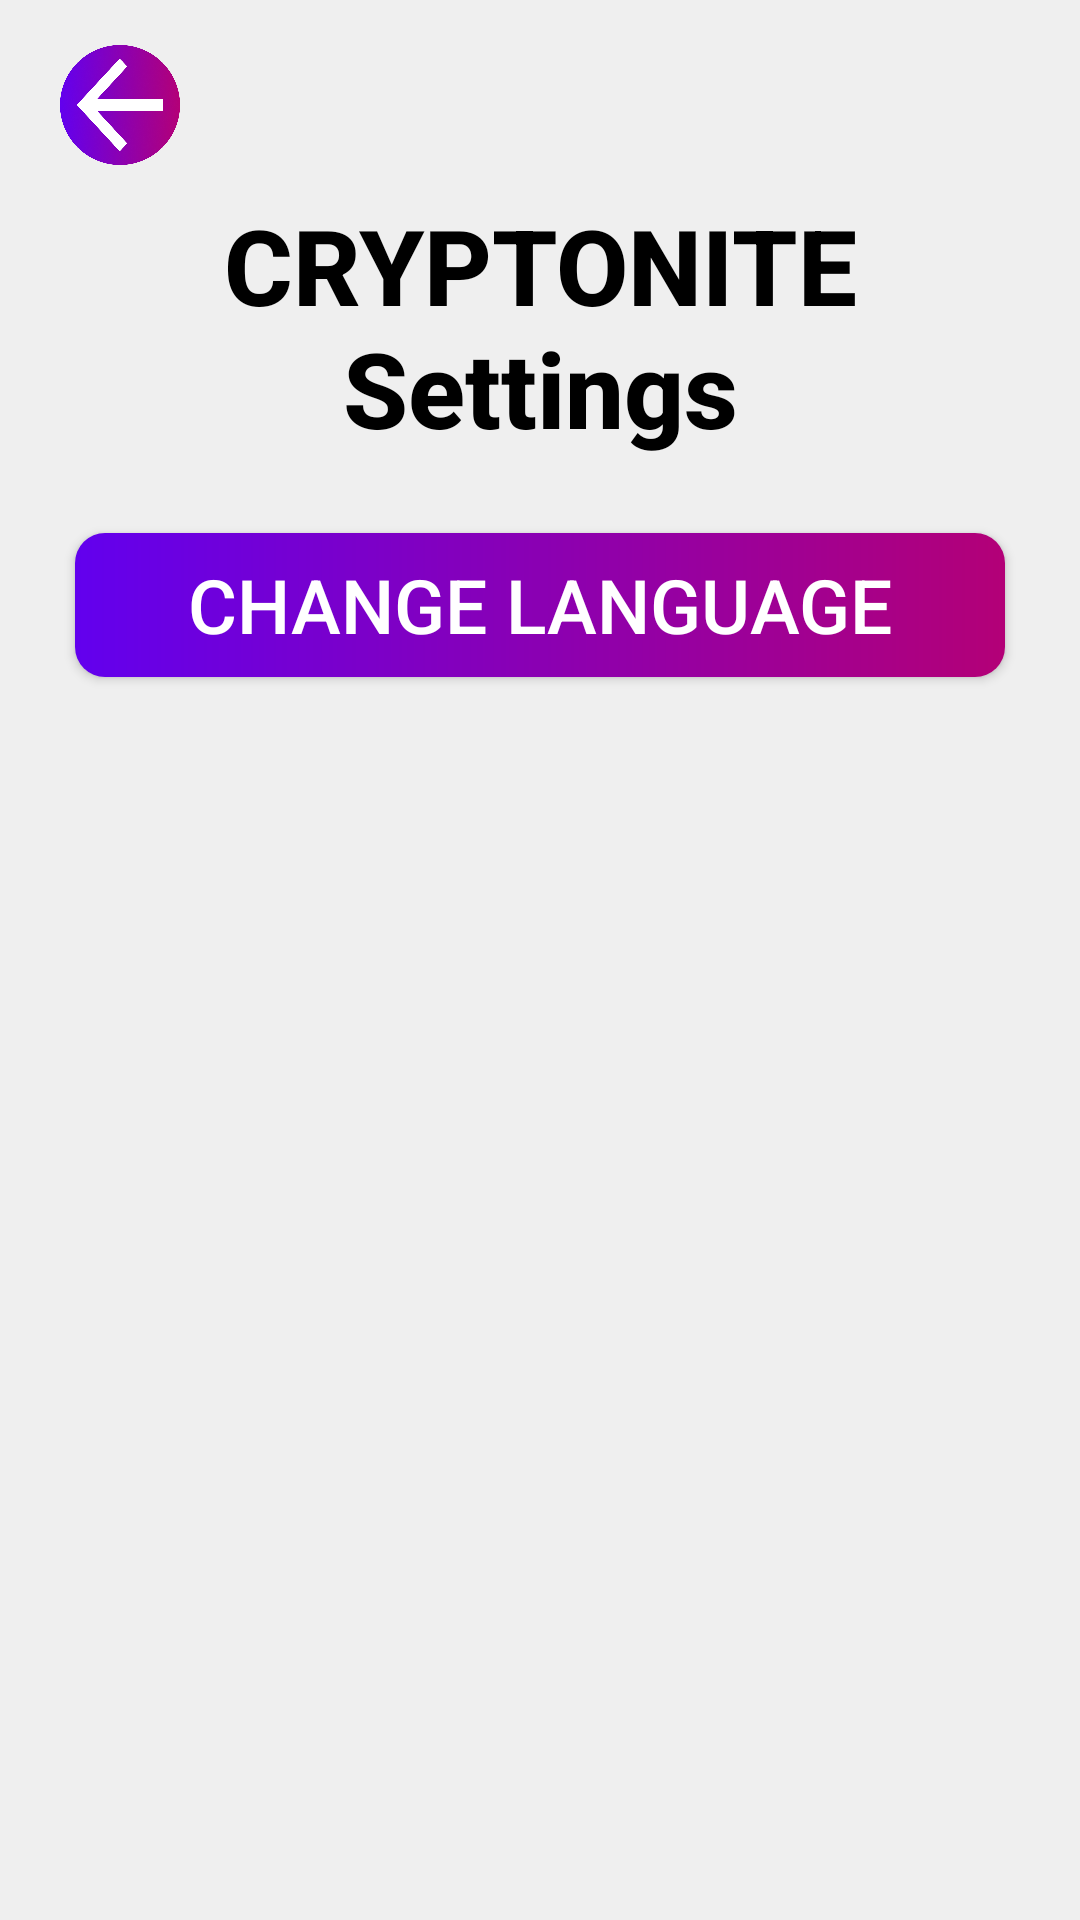

Where icons sit on this 1080×1920 app screen, as (x1, y1, x2, y2):
back: (60, 45, 180, 165)
